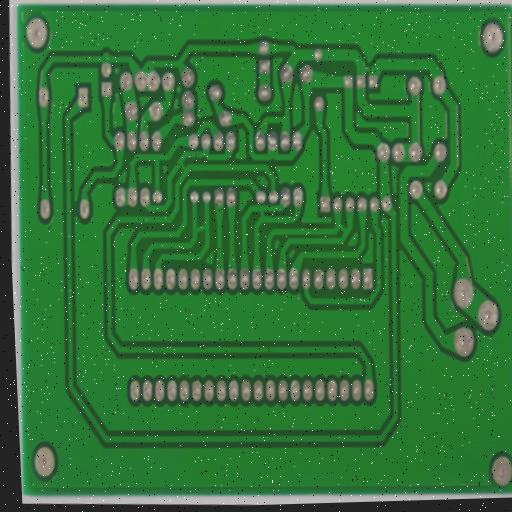short_circuit: (188, 216, 212, 243), (356, 54, 379, 82), (332, 215, 355, 241), (253, 202, 272, 226), (174, 156, 194, 178)
